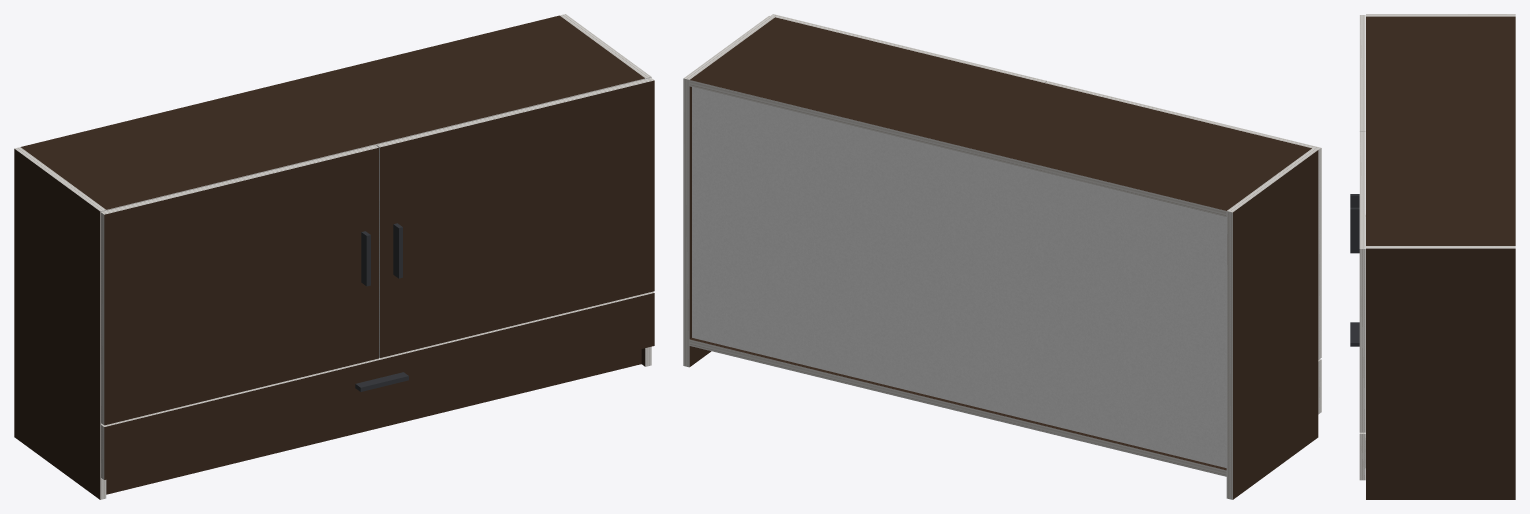
The model's file is BIB-SDB-std.glb.
3 renders of one model, left to right at view 1: azimuth 30°, elevation 25°; view 2: azimuth 150°, elevation 25°; view 3: azimuth 270°, elevation 25°, orthographic. The views are drawn at different scales.
Visible parts, largest first — view 1: door-l:pbr, door-r:pbr, top:pbr, d1-front:pbr, side-l:pbr, plinth:pbr, pull, d1-front:sheet:eyJtIjoicGx5Iiwic2lkZSI6ImVkZ2UtbG9uZyIsInNlZ, door-l:sheet:eyJtIjoicGx5Iiwic2lkZSI6ImVkZ2UtbG9uZyIsInNlZWQ, door-r:sheet:eyJtIjoicGx5Iiwic2lkZSI6ImVkZ2UtbG9uZyIsInNlZWQ, top:sheet:eyJtIjoicGx5Iiwic2lkZSI6ImVkZ2UtbG9uZyIsInNlZWQiOj, door-l:sheet:eyJtIjoicGx5Iiwic2lkZSI6ImVkZ2UtZW5kIiwic2VlZCI; view 2: back:sheet:eyJtIjoibWRmIiwic2lkZSI6ImZhY2UiLCJzZWVkIjoyLCJ0a, top:pbr, side-l:pbr, bottom:sheet:eyJtIjoicGx5Iiwic2lkZSI6ImVkZ2UtbG9uZyIsInNlZWQ, top:sheet:eyJtIjoicGx5Iiwic2lkZSI6ImVkZ2UtbG9uZyIsInNlZWQiOj, side-r:sheet:eyJtIjoicGx5Iiwic2lkZSI6ImVkZ2UtbG9uZyIsInNlZWQ, side-l:sheet:eyJtIjoicGx5Iiwic2lkZSI6ImVkZ2UtbG9uZyIsInNlZWQ, bottom:pbr, side-r:pbr, door-l:sheet:eyJtIjoicGx5Iiwic2lkZSI6ImVkZ2UtbG9uZyIsInNlZWQ, door-r:sheet:eyJtIjoicGx5Iiwic2lkZSI6ImVkZ2UtbG9uZyIsInNlZWQ, door-l:sheet:eyJtIjoicGx5Iiwic2lkZSI6ImVkZ2UtZW5kIiwic2VlZCI; view 3: side-r:pbr, top:pbr, door-r:sheet:eyJtIjoicGx5Iiwic2lkZSI6ImVkZ2UtZW5kIiwic2VlZCI, pull, door-l:sheet:eyJtIjoicGx5Iiwic2lkZSI6ImVkZ2UtbG9uZyIsInNlZWQ, door-r:sheet:eyJtIjoicGx5Iiwic2lkZSI6ImVkZ2UtbG9uZyIsInNlZWQ, side-l:sheet:eyJtIjoicGx5Iiwic2lkZSI6ImVkZ2UtZW5kIiwic2VlZCI, side-r:sheet:eyJtIjoicGx5Iiwic2lkZSI6ImVkZ2UtZW5kIiwic2VlZCI, d1-front:sheet:eyJtIjoicGx5Iiwic2lkZSI6ImVkZ2UtZW5kIiwic2VlZ, d1-box-front:sheet:eyJtIjoicGx5Iiwic2lkZSI6ImVkZ2UtbG9uZyIsI.
Boxes of the visible parts, left/top/right/bottom form: door-l:pbr: left=104, top=147, right=378, bottom=425; door-r:pbr: left=380, top=80, right=654, bottom=357; top:pbr: left=21, top=15, right=644, bottom=209; d1-front:pbr: left=104, top=293, right=654, bottom=479; side-l:pbr: left=14, top=149, right=100, bottom=499; plinth:pbr: left=106, top=349, right=641, bottom=494; pull: left=355, top=223, right=408, bottom=391; d1-front:sheet:eyJtIjoicGx5Iiwic2lkZSI6ImVkZ2UtbG9uZyIsInNlZ: left=101, top=291, right=654, bottom=426; door-l:sheet:eyJtIjoicGx5Iiwic2lkZSI6ImVkZ2UtbG9uZyIsInNlZWQ: left=101, top=145, right=378, bottom=214; door-r:sheet:eyJtIjoicGx5Iiwic2lkZSI6ImVkZ2UtbG9uZyIsInNlZWQ: left=377, top=78, right=654, bottom=147; top:sheet:eyJtIjoicGx5Iiwic2lkZSI6ImVkZ2UtbG9uZyIsInNlZWQiOj: left=106, top=78, right=645, bottom=210; door-l:sheet:eyJtIjoicGx5Iiwic2lkZSI6ImVkZ2UtZW5kIiwic2VlZCI: left=101, top=212, right=104, bottom=424; back:sheet:eyJtIjoibWRmIiwic2lkZSI6ImZhY2UiLCJzZWVkIjoyLCJ0a: left=692, top=87, right=1226, bottom=467; top:pbr: left=690, top=17, right=1311, bottom=210; side-l:pbr: left=1233, top=150, right=1318, bottom=499; bottom:sheet:eyJtIjoicGx5Iiwic2lkZSI6ImVkZ2UtbG9uZyIsInNlZWQ: left=689, top=339, right=1226, bottom=476; top:sheet:eyJtIjoicGx5Iiwic2lkZSI6ImVkZ2UtbG9uZyIsInNlZWQiOj: left=689, top=80, right=1226, bottom=217; side-r:sheet:eyJtIjoicGx5Iiwic2lkZSI6ImVkZ2UtbG9uZyIsInNlZWQ: left=683, top=78, right=689, bottom=367; side-l:sheet:eyJtIjoicGx5Iiwic2lkZSI6ImVkZ2UtbG9uZyIsInNlZWQ: left=1226, top=211, right=1232, bottom=499; bottom:pbr: left=690, top=338, right=1226, bottom=470; side-r:pbr: left=689, top=86, right=711, bottom=366; door-l:sheet:eyJtIjoicGx5Iiwic2lkZSI6ImVkZ2UtbG9uZyIsInNlZWQ: left=1045, top=81, right=1321, bottom=149; door-r:sheet:eyJtIjoicGx5Iiwic2lkZSI6ImVkZ2UtbG9uZyIsInNlZWQ: left=771, top=14, right=1046, bottom=82; door-l:sheet:eyJtIjoicGx5Iiwic2lkZSI6ImVkZ2UtZW5kIiwic2VlZCI: left=1318, top=148, right=1321, bottom=359; side-r:pbr: left=1366, top=248, right=1515, bottom=499; top:pbr: left=1366, top=16, right=1515, bottom=245; door-r:sheet:eyJtIjoicGx5Iiwic2lkZSI6ImVkZ2UtZW5kIiwic2VlZCI: left=1359, top=249, right=1365, bottom=432; pull: left=1350, top=194, right=1359, bottom=346; door-l:sheet:eyJtIjoicGx5Iiwic2lkZSI6ImVkZ2UtbG9uZyIsInNlZWQ: left=1359, top=15, right=1365, bottom=131; door-r:sheet:eyJtIjoicGx5Iiwic2lkZSI6ImVkZ2UtbG9uZyIsInNlZWQ: left=1359, top=132, right=1365, bottom=248; side-l:sheet:eyJtIjoicGx5Iiwic2lkZSI6ImVkZ2UtZW5kIiwic2VlZCI: left=1366, top=14, right=1515, bottom=16; side-r:sheet:eyJtIjoicGx5Iiwic2lkZSI6ImVkZ2UtZW5kIiwic2VlZCI: left=1366, top=246, right=1515, bottom=248; d1-front:sheet:eyJtIjoicGx5Iiwic2lkZSI6ImVkZ2UtZW5kIiwic2VlZ: left=1359, top=434, right=1365, bottom=480; d1-box-front:sheet:eyJtIjoicGx5Iiwic2lkZSI6ImVkZ2UtbG9uZyIsI: left=1365, top=217, right=1365, bottom=437.
Size of the model in its own units: 1.6 by 0.8 by 0.4769.
Materials: 55 (42 with a texture image).
